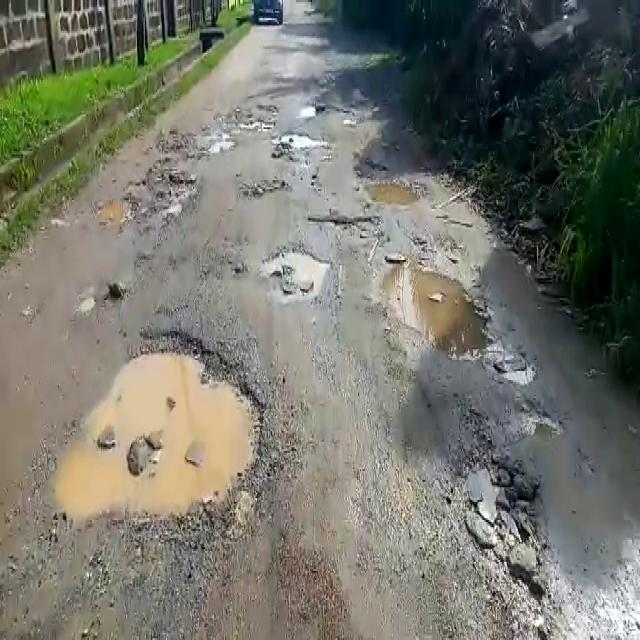Pothole: (69, 327, 267, 532), (375, 259, 491, 362), (97, 166, 201, 234), (262, 245, 328, 301), (358, 174, 422, 208), (510, 397, 560, 440), (305, 212, 381, 236), (238, 175, 290, 198), (494, 360, 536, 388)
